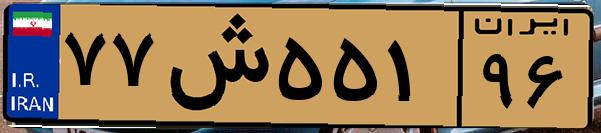1: (385, 28, 445, 110)
5: (270, 28, 330, 110), (330, 28, 385, 110)
6: (525, 38, 570, 115)
7: (57, 26, 110, 100), (110, 28, 158, 98)
9: (475, 38, 525, 113)
ش: (158, 12, 270, 120)
